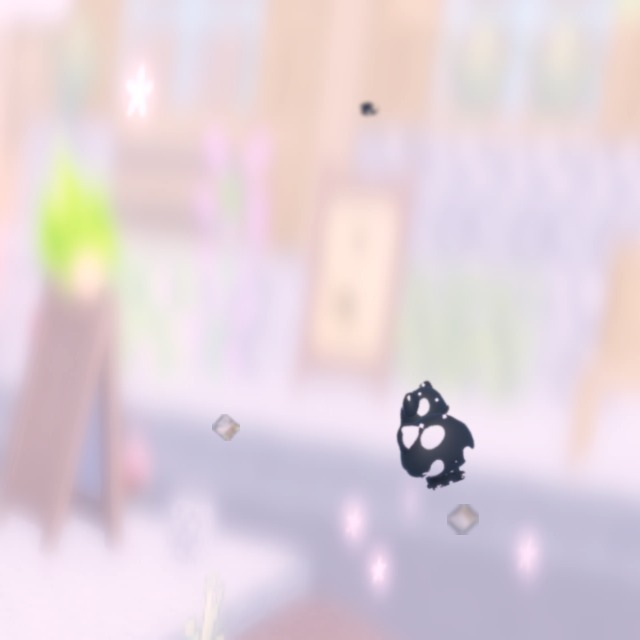urso_branco: (447, 504, 479, 535), (212, 414, 240, 441)
urso_preto: (371, 363, 493, 499), (356, 99, 382, 119)
